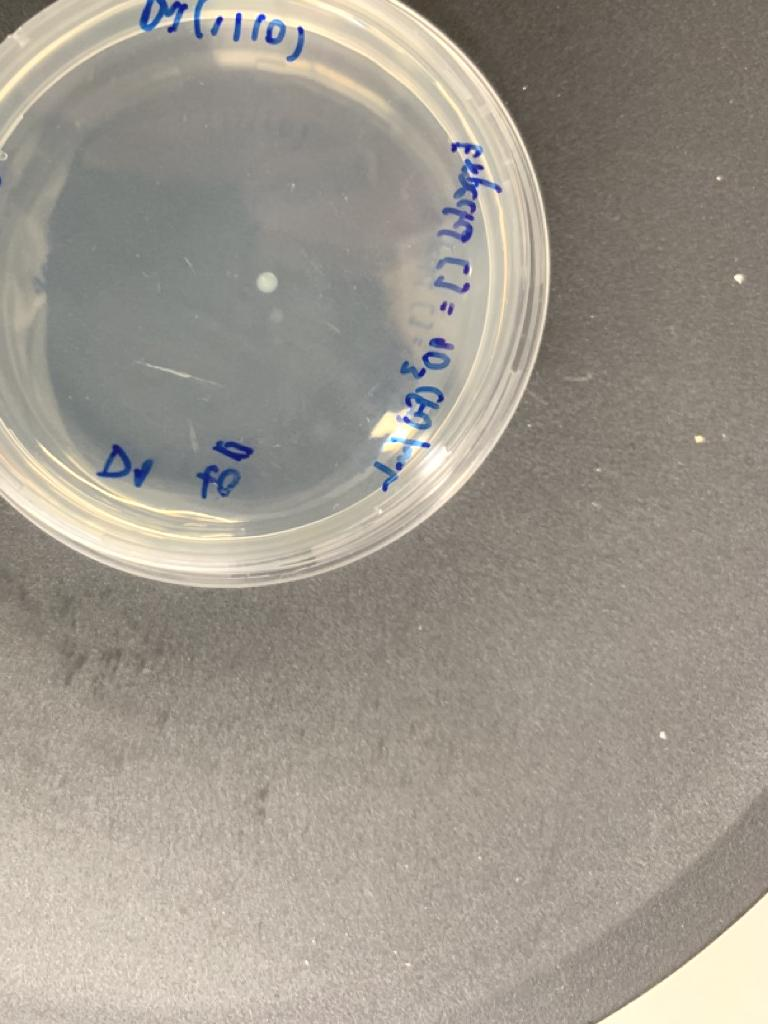colony: (256, 268, 280, 296)
